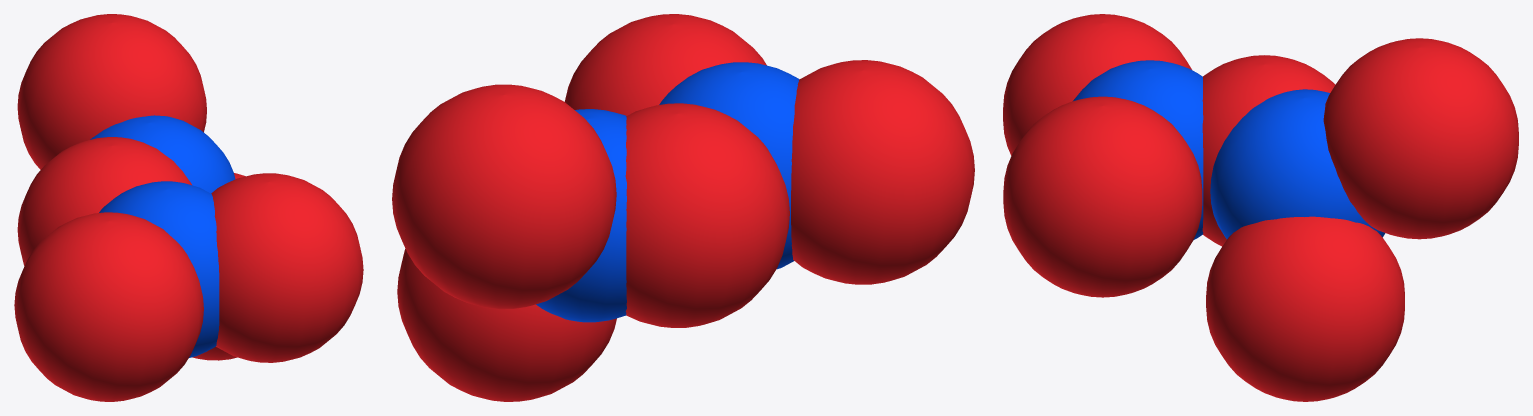
3 views of the same model, side by side, from view 1: azimuth 30°, elevation 25°; view 2: azimuth 150°, elevation 25°; view 3: azimuth 270°, elevation 25° (orthographic). The views are drawn at different scales.
Parts seen in each view (by area): view 1: Сферы_Node (×7); view 2: Сферы_Node (×7); view 3: Сферы_Node (×7).
Part boxes in pixels (<box>): Сферы_Node (×7): <box>14,14,363,401</box>; Сферы_Node (×7): <box>392,14,974,401</box>; Сферы_Node (×7): <box>1003,14,1518,401</box>.
Bounding box in the file's own units: 3.52 × 2.77 × 4.05.
2 materials, 2 textured.
